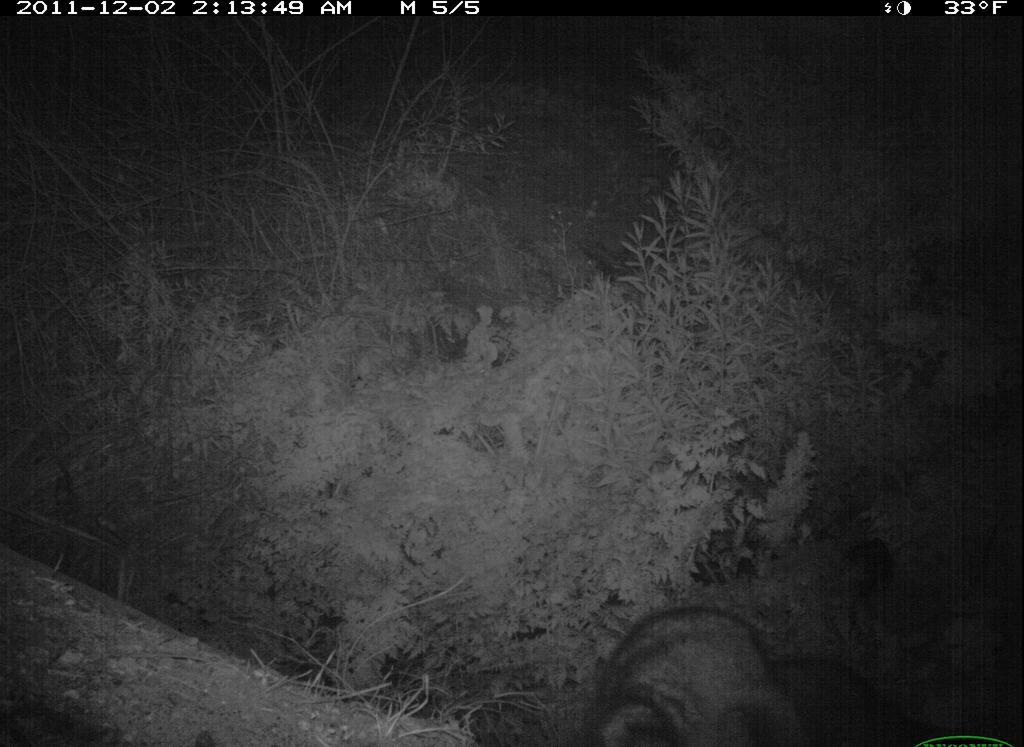raccoon: (556, 579, 889, 747)
